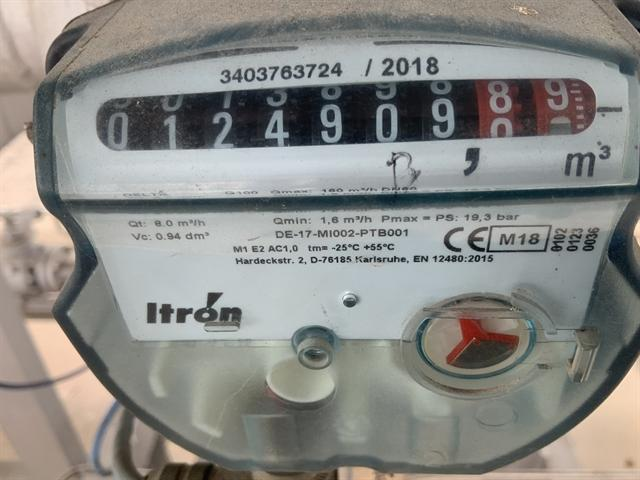analog_dial: (89, 71, 626, 169)
